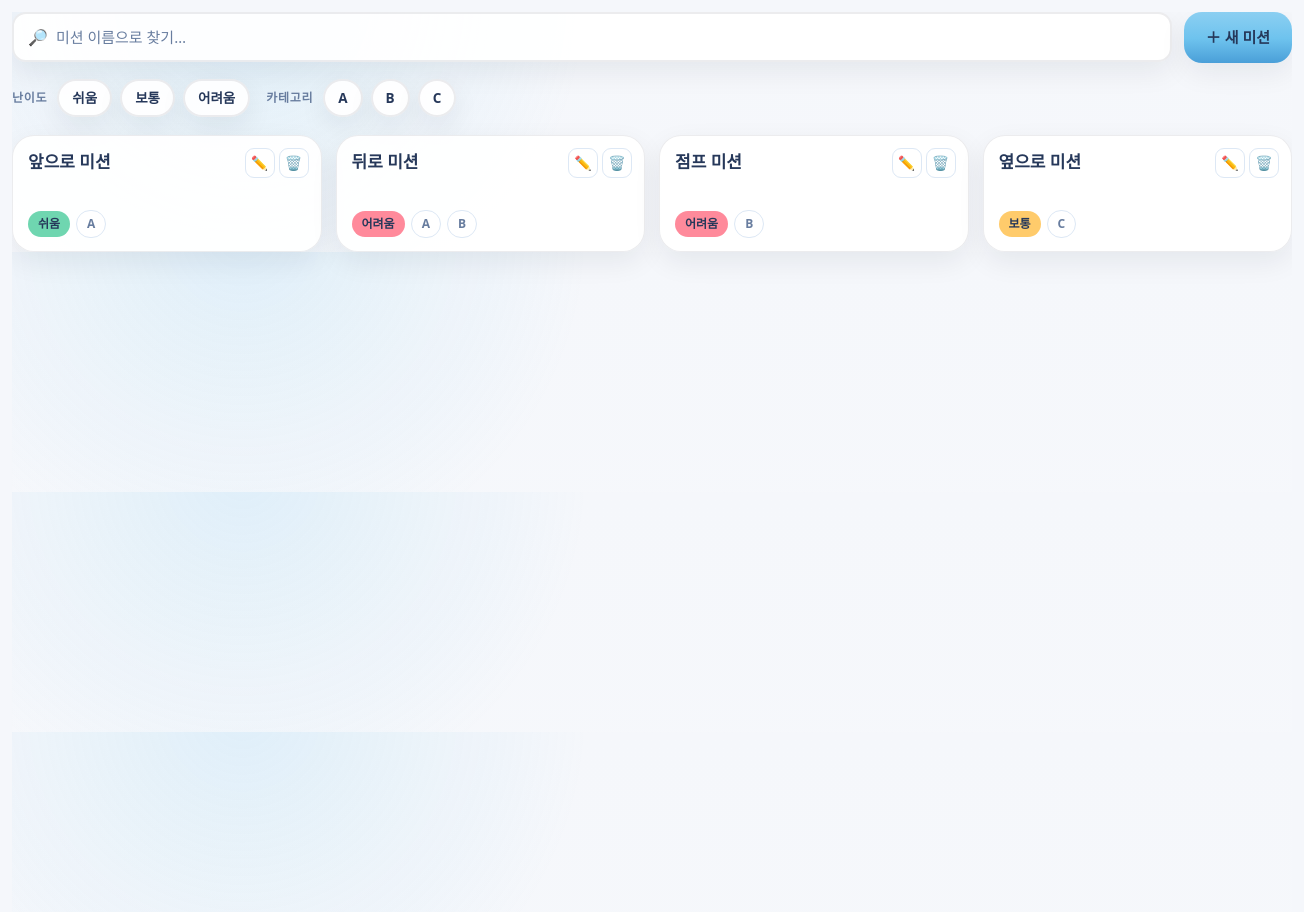
Test case: MissionTab (search + difficulty/category filter + delete) › shows only missions containing BOTH active categories (AND across categories)
Click the button "A".
click(343, 98)  # box [323, 78, 363, 117]
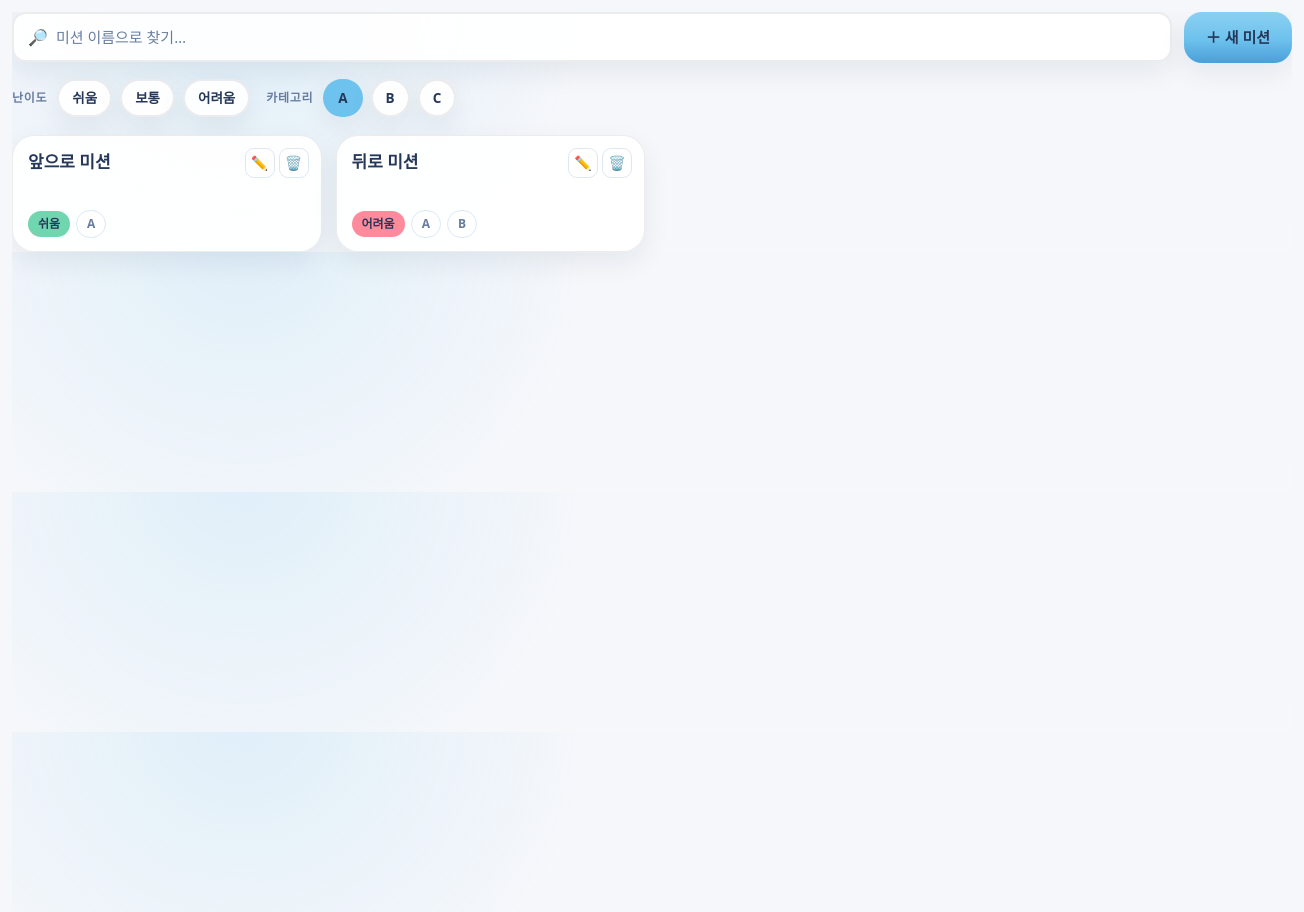
Click the button "B".
click(390, 98)  # box [371, 78, 410, 117]
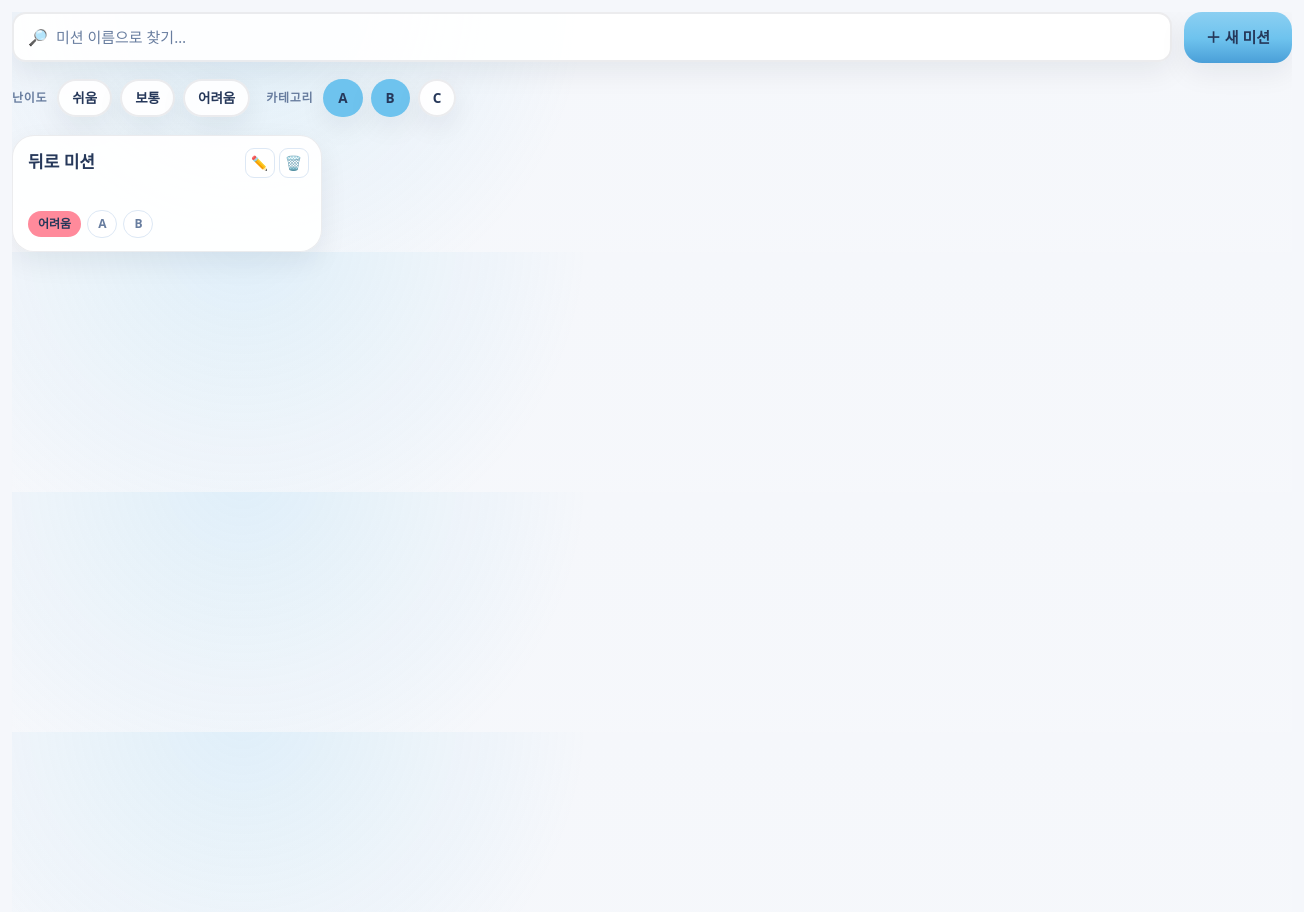
Expected: the text "뒤로 미션" is shown, [28, 150, 95, 173]
Expected: the text "앞으로 미션" is gone
